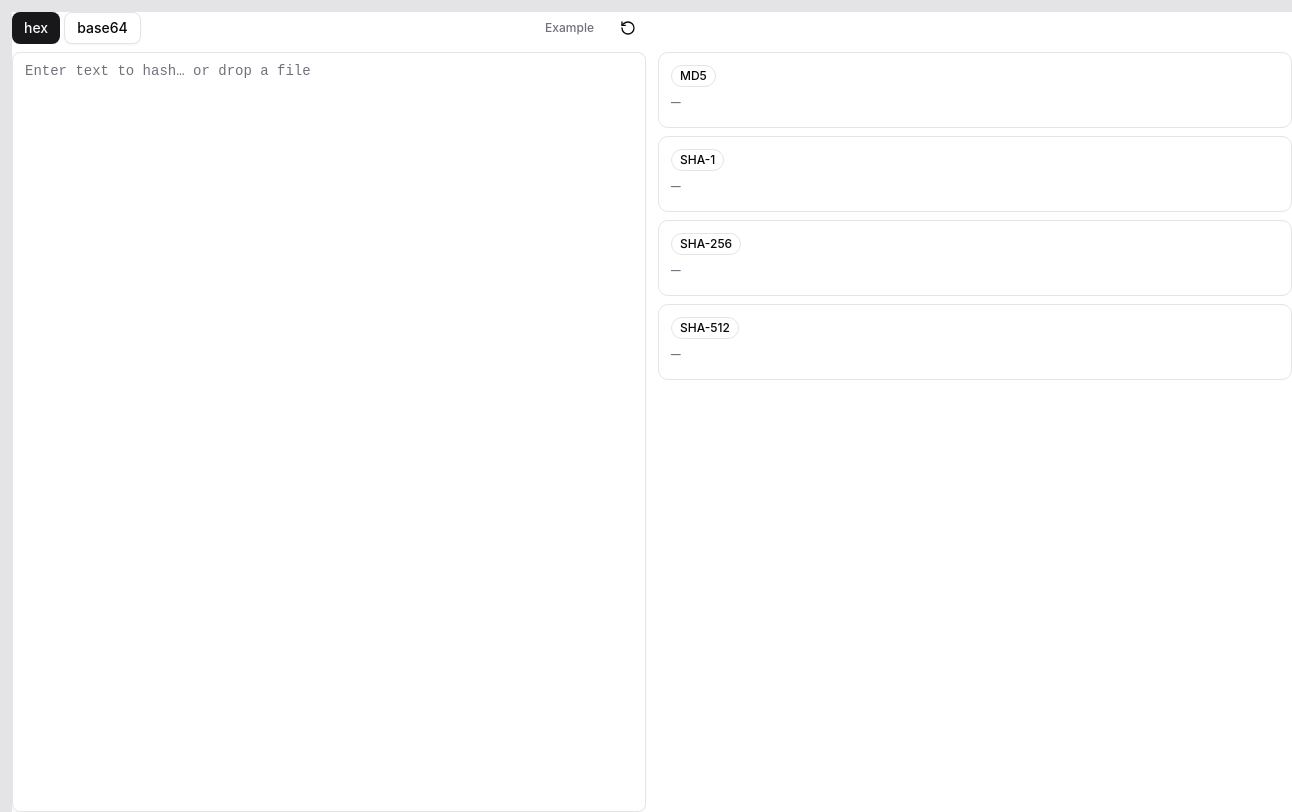
Test: clearing input empties the textarea
The width and height of the screenshot is (1292, 812).
Click the button "Example". click: (570, 28)
box: [533, 12, 606, 44]
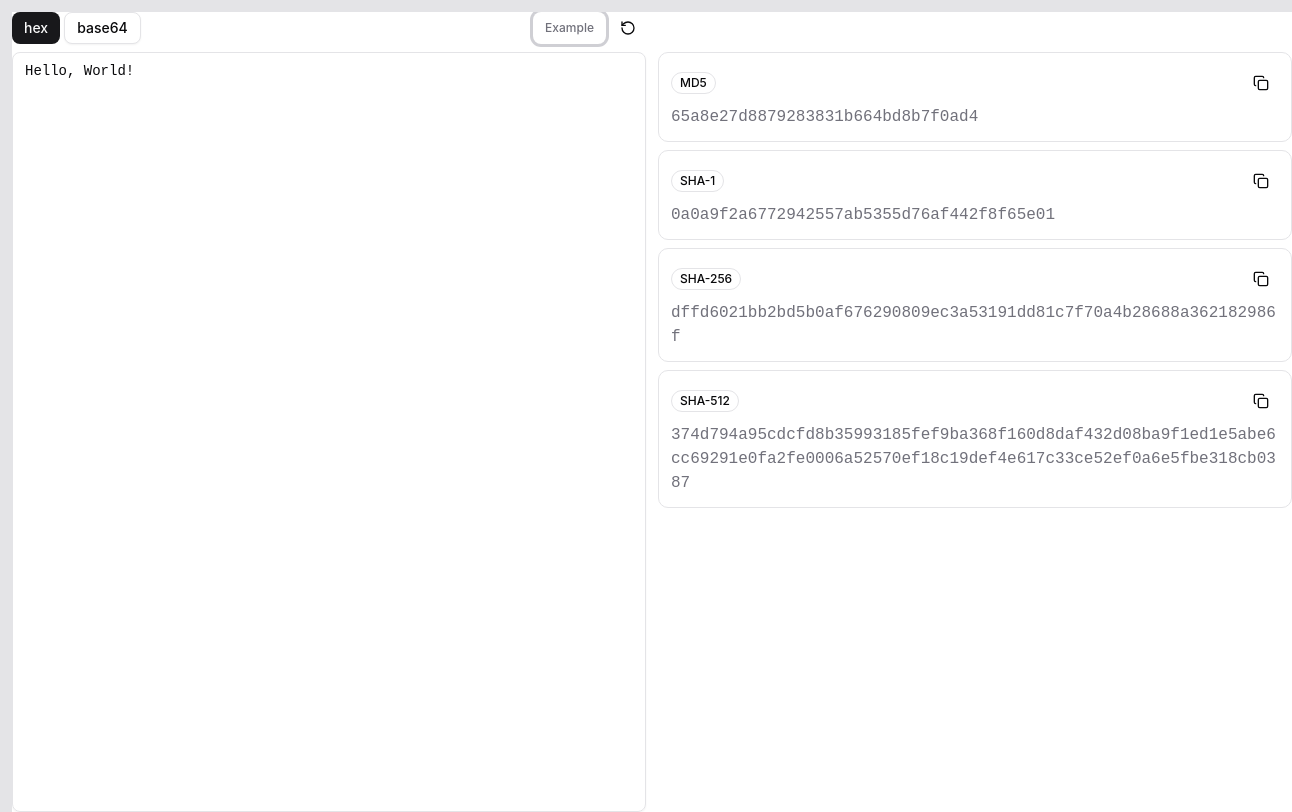
Expected: the text "65a8e27d8879283831b664bd8b7f0ad4" is shown, [671, 108, 978, 126]
Click the button named "Clear". click: (628, 28)
box: [610, 12, 646, 44]
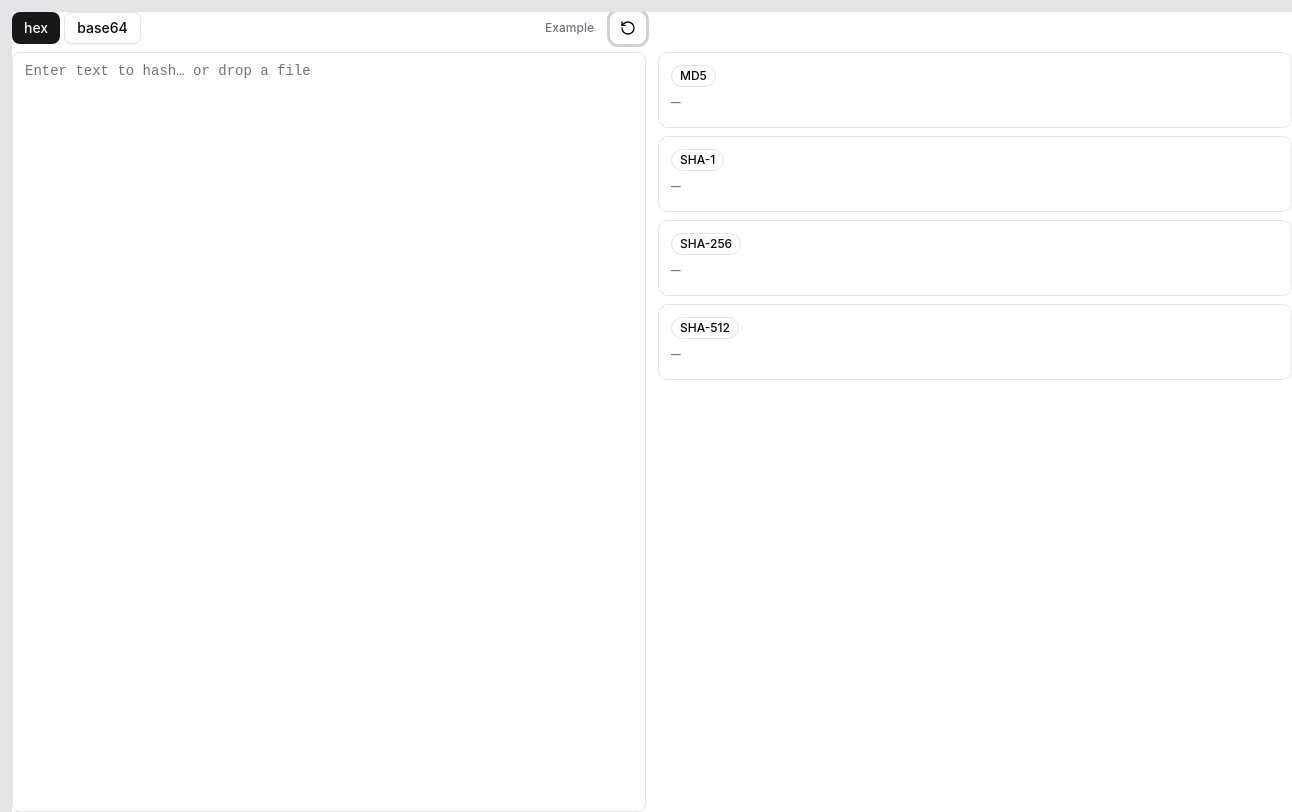
Expected: the text box is empty, [12, 52, 646, 811]
